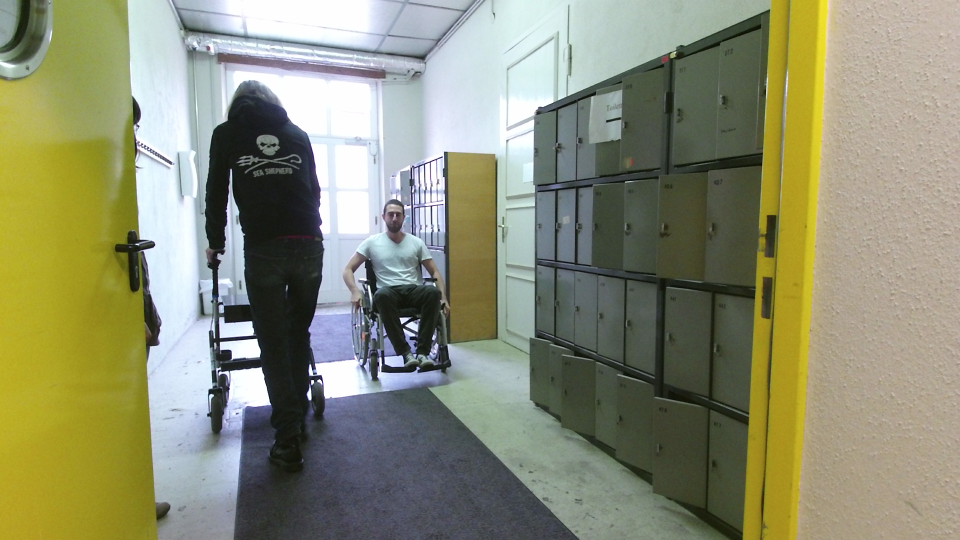wheelchair: (337, 195, 456, 386)
